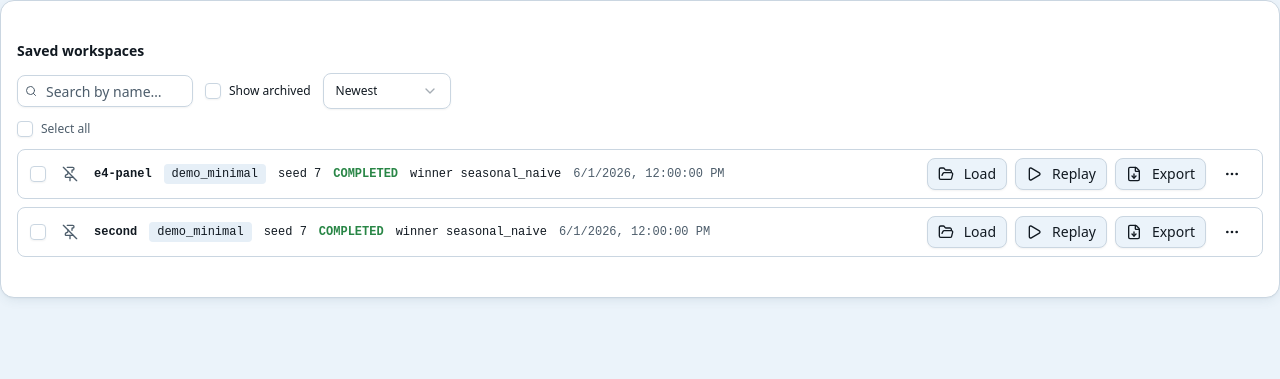
Test: WorkspacePanel — multi-select › shows the selection footer with the count
Click the checkbox named "Select workspace e4-panel". click: click(38, 174)
box: 30,166 -> 46,182
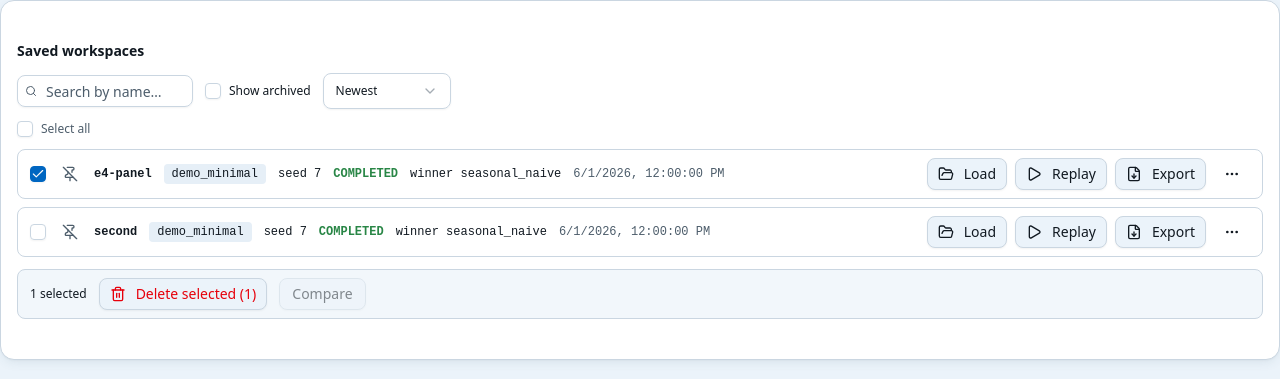
Click the checkbox named "Select workspace second". click: click(38, 232)
box: 30,224 -> 46,240
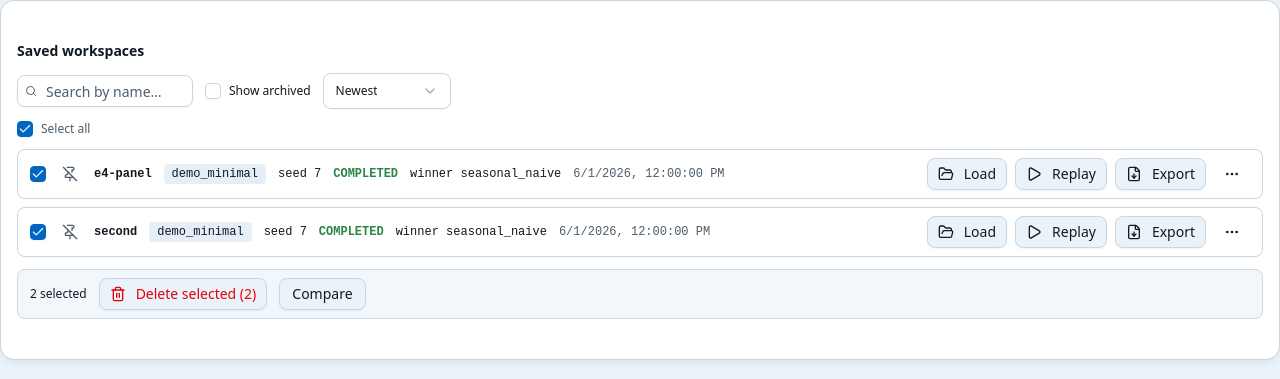
expect the text "2 selected" is shown: met, box 30,286 -> 87,302
